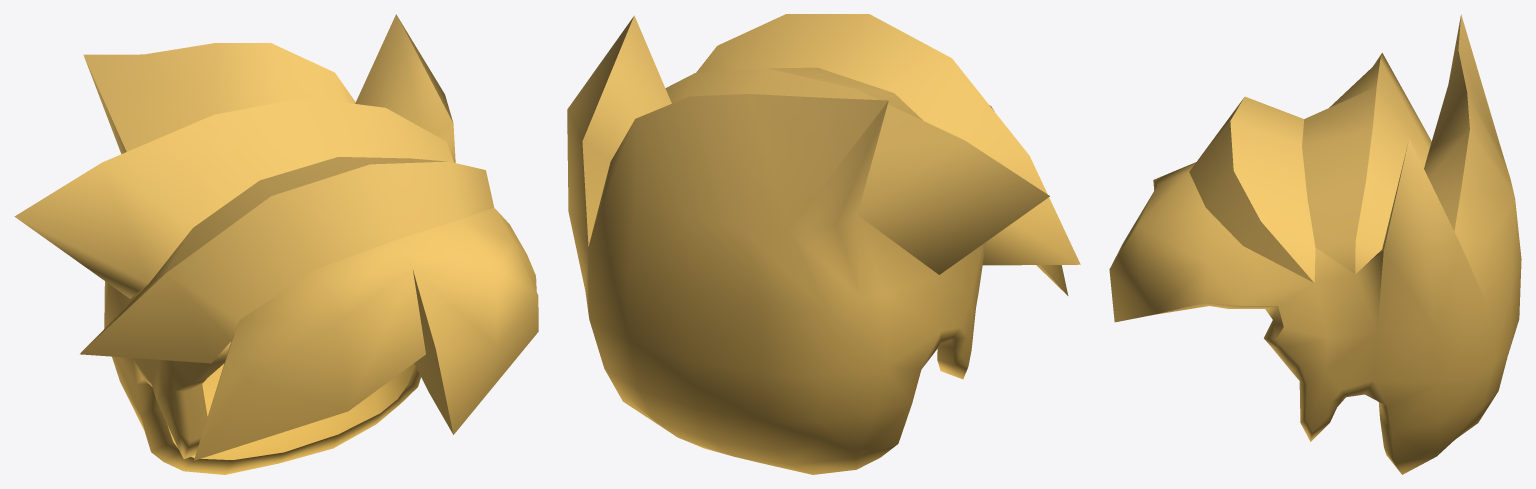
Rendered from Hair_Yellow_14.fbx.
3 renders of one model, left to right at view 1: azimuth 30°, elevation 25°; view 2: azimuth 150°, elevation 25°; view 3: azimuth 270°, elevation 25°, orthographic. The views are drawn at different scales.
Parts seen in each view (by area): view 1: Hair_Yellow_14; view 2: Hair_Yellow_14; view 3: Hair_Yellow_14.
Part boxes in pixels (x1,y1,x2,y2): Hair_Yellow_14: [14, 14, 538, 474]; Hair_Yellow_14: [567, 14, 1080, 474]; Hair_Yellow_14: [1109, 14, 1521, 474].
Bounding box in the file's own units: 72.54 × 64.55 × 65.91.
